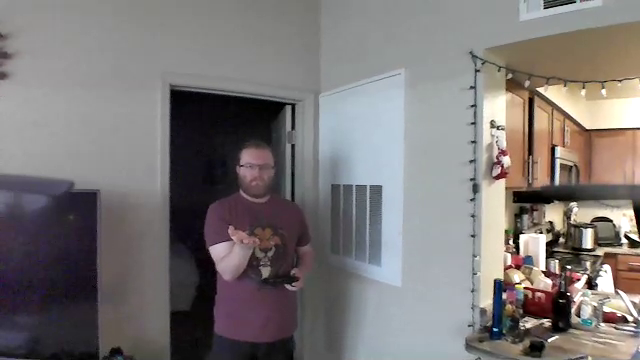land: (225, 225, 262, 250)
